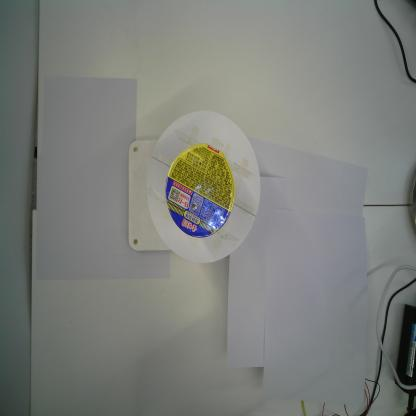Instant Noodles: (165, 143, 235, 239)
